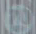Speed limit: (1, 3, 34, 33)
